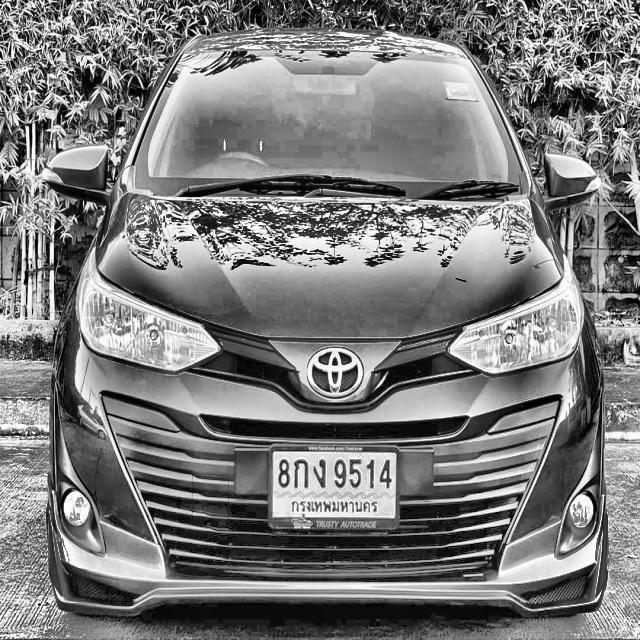license-plate: (267, 442, 402, 534)
